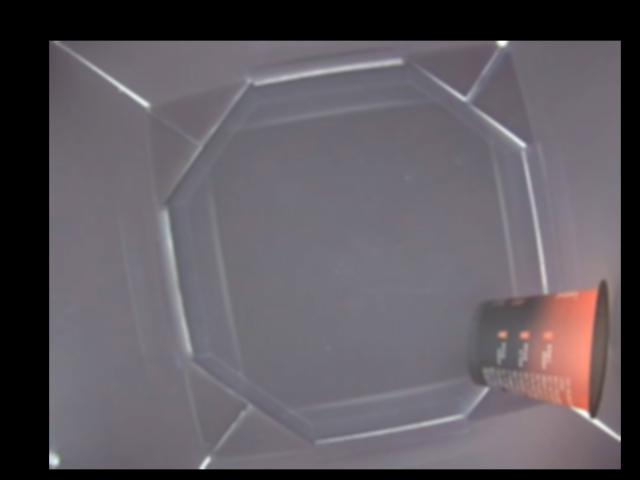Cup: (469, 280, 610, 421)
